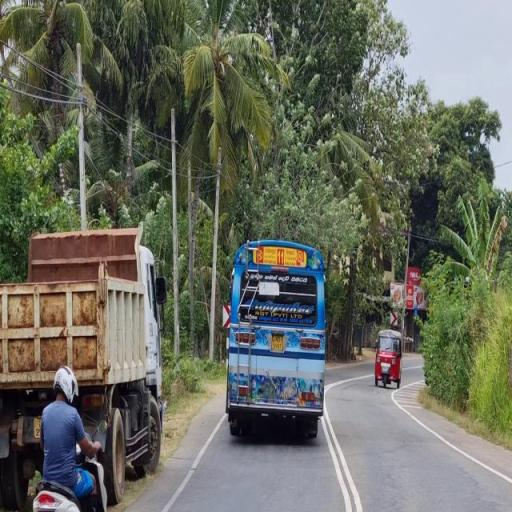double_white_line: (320, 374, 370, 510)
